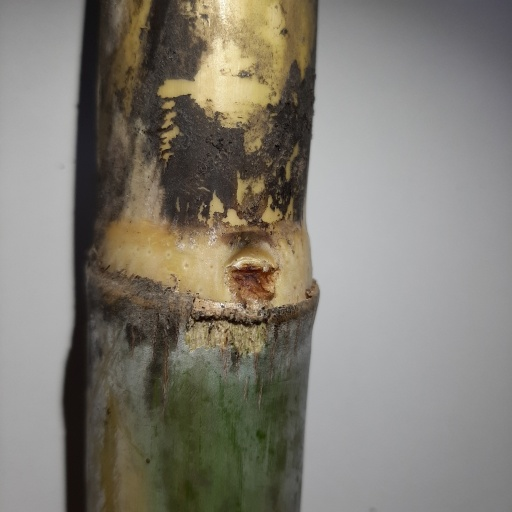Damage_Bud: (225, 248, 277, 303)
